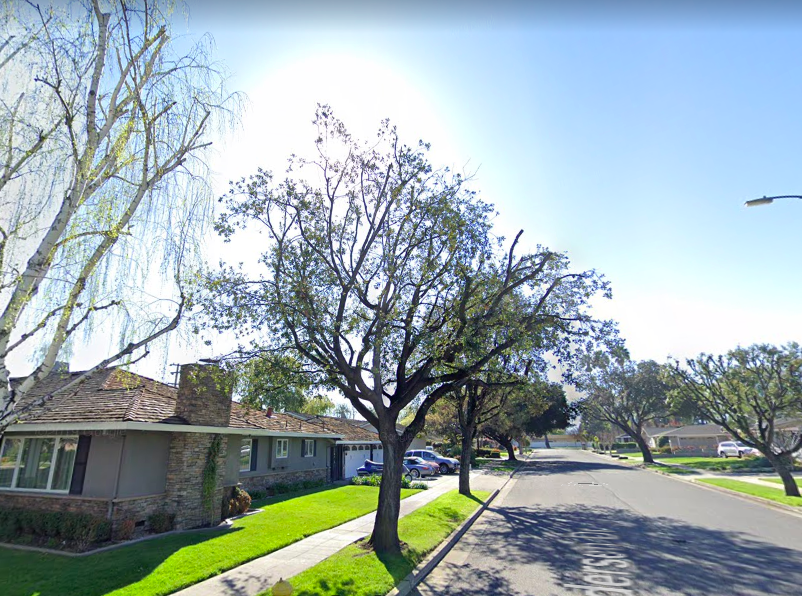tree: (171, 98, 617, 549)
